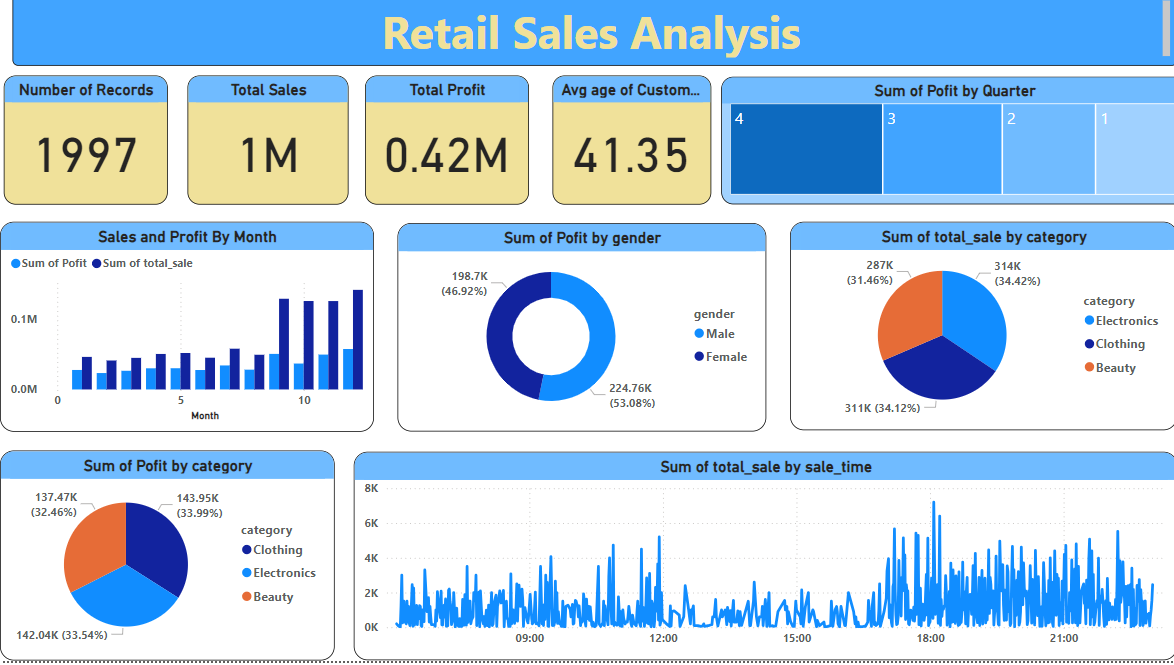

Layout of this report page (visuals, bound fields, positions):
{"tool":"powerbi","page":{"name":"Page 1","canvas":[1280,720],"ordinal":0},"visuals":[{"type":"card","title":"Number of Records","fields":{"Values":["CountNonNull(Retail Sales Analysis.customer_id)"]},"box":[4,88.9,176.5,138.8],"z":0},{"type":"card","title":"Total Sales","fields":{"Values":["Sum(Retail Sales Analysis.total_sale)"]},"box":[202.1,88.9,173.8,138.8],"z":1},{"type":"card","title":"Total Profit","fields":{"Values":["Sum(Retail Sales Analysis.Pofit)"]},"box":[393.5,88.9,176.5,138.8],"z":2},{"type":"lineClusteredColumnComboChart","title":"Sales and Profit By Month","fields":{"Category":["Retail Sales Analysis.Month"],"Y":["Sum(Retail Sales Analysis.Pofit)","Sum(Retail Sales Analysis.total_sale)"]},"box":[0,246.6,402.9,226.4],"z":3},{"type":"donutChart","fields":{"Category":["Retail Sales Analysis.gender"],"Y":["Sum(Retail Sales Analysis.Pofit)"]},"box":[428.6,248,397.6,225.1],"z":4},{"type":"pieChart","fields":{"Y":["Sum(Retail Sales Analysis.Pofit)"],"Category":["Retail Sales Analysis.category"]},"box":[0,493.2,361.2,226.4],"z":5},{"type":"pieChart","fields":{"Category":["Retail Sales Analysis.category"],"Y":["Sum(Retail Sales Analysis.total_sale)"]},"box":[851.7,246.6,417.8,225.1],"z":7},{"type":"card","title":"Avg age of Customer","fields":{"Values":["Avg(Retail Sales Analysis.age)"]},"box":[595.7,88.9,171.2,138.8],"z":8},{"type":"treemap","fields":{"Group":["Retail Sales Analysis.Quarter"],"Values":["Sum(Retail Sales Analysis.Pofit)"]},"box":[777.6,90.3,502.7,137.5],"z":9},{"type":"areaChart","fields":{"Category":["Retail Sales Analysis.sale_time"],"Y":["Sum(Retail Sales Analysis.total_sale)"]},"box":[381.4,494.6,888.1,225.1],"z":11},{"type":"textbox","box":[13.5,0,1256,78.2],"z":12}]}

Visuals, with their boxes in screenshot pixels (x1, y1, x2, y2), scaled from the page's 1280x720 canvas onto the 1174x665 screenshot:
"Number of Records" card: box=[4, 82, 166, 210]
"Total Sales" card: box=[185, 82, 345, 210]
"Total Profit" card: box=[361, 82, 523, 210]
"Sales and Profit By Month" lineClusteredColumnComboChart: box=[0, 228, 370, 437]
donutChart - Retail Sales Analysis.gender x Sum(Retail Sales Analysis.Pofit): box=[393, 229, 758, 437]
pieChart - Sum(Retail Sales Analysis.Pofit) x Retail Sales Analysis.category: box=[0, 456, 331, 664]
pieChart - Retail Sales Analysis.category x Sum(Retail Sales Analysis.total_sale): box=[781, 228, 1164, 436]
"Avg age of Customer" card: box=[546, 82, 703, 210]
treemap - Retail Sales Analysis.Quarter x Sum(Retail Sales Analysis.Pofit): box=[713, 83, 1173, 210]
areaChart - Retail Sales Analysis.sale_time x Sum(Retail Sales Analysis.total_sale): box=[350, 457, 1164, 664]
textbox: box=[12, 0, 1164, 72]
